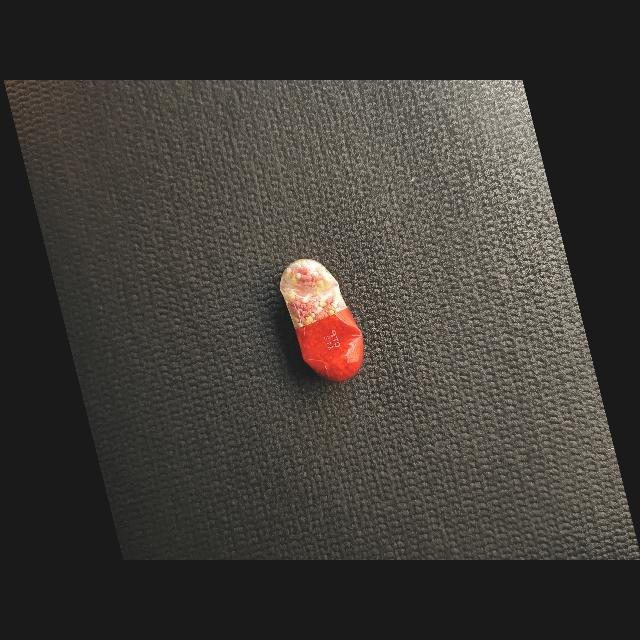Defective Capsule: (280, 258, 363, 382)
